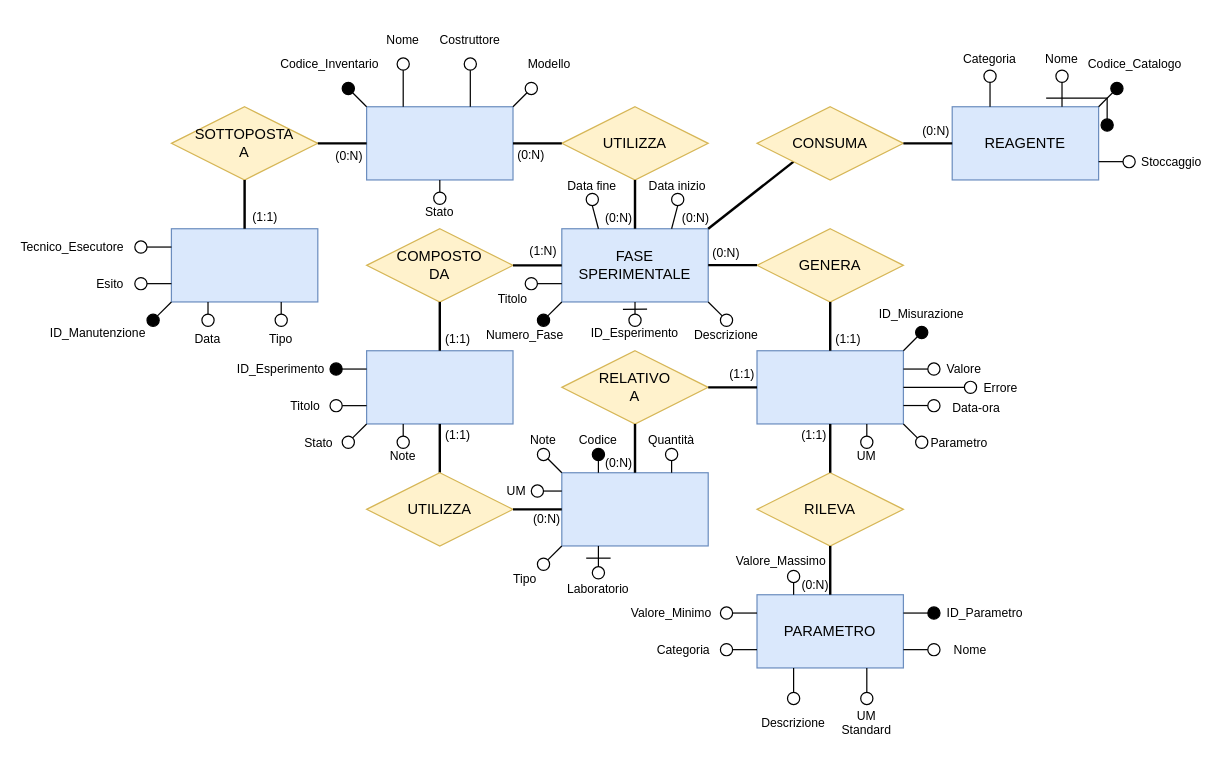
Some shapes in this 1230 by 761 pixel diagram are drawn without their labels. The shapes that lost their labels are listed below. From the top down, each one's centre as x and y in pixels, then its label:
At (x=439, y=143): "STRUMENTAZIONE".
At (x=244, y=265): "MANUTENZIONE".
At (x=439, y=387): "ESPERIMENTO".
At (x=829, y=387): "MISURAZIONE".
At (x=634, y=509): "CAMPIONE".
